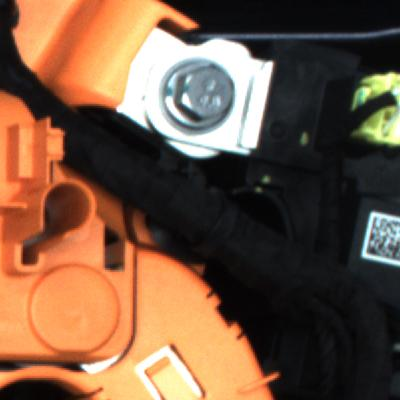nut_b: (156, 51, 246, 143)
